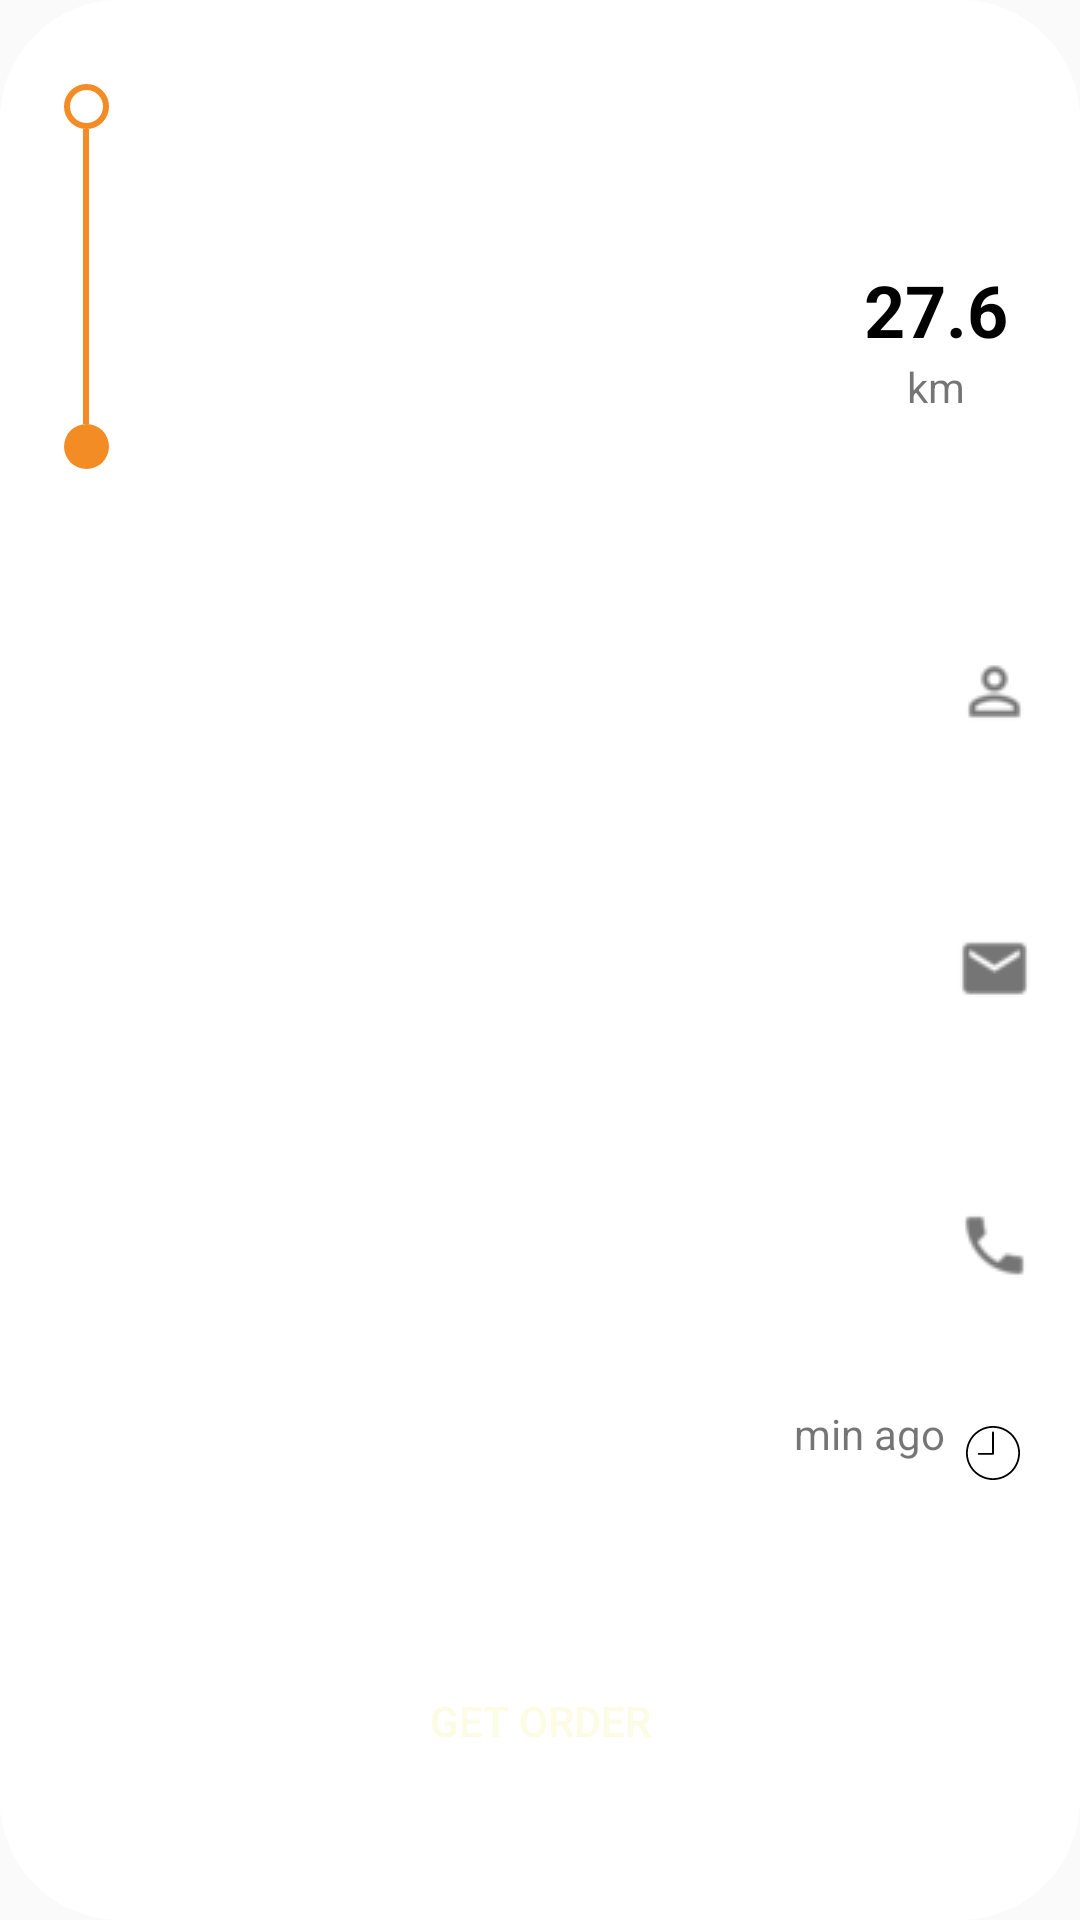

Icon click points for this 1080 x 1920 phone screenshot, format [x,y]:
time: [993,1453]
